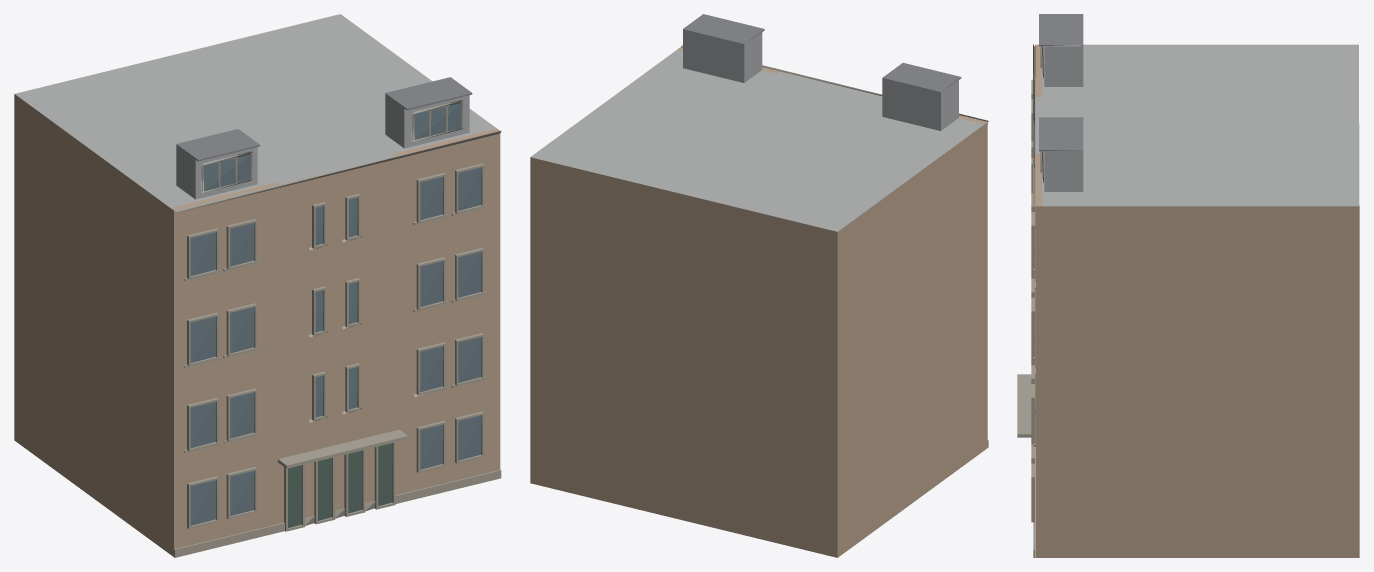
File: chunk-face-haen-6-62-r3.lod2.glb
The picture shows the model from 3 angles, left to right: view 1: azimuth 30°, elevation 25°; view 2: azimuth 150°, elevation 25°; view 3: azimuth 270°, elevation 25°; orthographic projection. The views are drawn at different scales.
Visible parts, largest first — view 1: lod2; view 2: lod2; view 3: lod2.
Boxes of the visible parts, bbox=[...] form: lod2: bbox=[14, 14, 501, 557]; lod2: bbox=[530, 14, 988, 557]; lod2: bbox=[1017, 14, 1359, 557].
Bounding box in the file's own units: 12.8 × 14.6 × 11.45.
